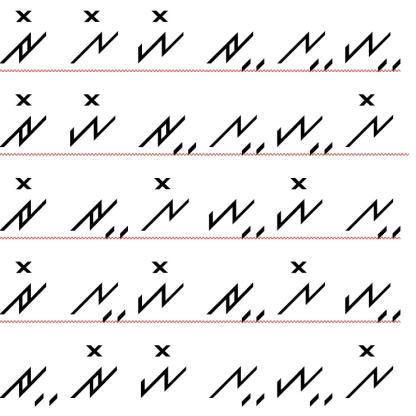lah: (341, 192, 404, 243), (68, 276, 130, 325), (206, 360, 266, 410), (276, 20, 334, 70), (207, 110, 267, 156)
lo: (65, 5, 123, 66), (342, 90, 398, 152), (344, 340, 398, 404), (274, 258, 328, 318), (142, 175, 191, 235)
rah: (205, 22, 268, 73), (136, 108, 199, 158), (65, 192, 130, 239), (206, 277, 267, 322), (1, 362, 60, 408)
ro: (1, 3, 52, 70), (68, 340, 121, 404), (0, 90, 50, 152), (1, 259, 52, 317), (1, 177, 50, 233)
yah: (340, 275, 404, 326), (273, 108, 337, 158), (342, 22, 405, 72), (203, 190, 267, 239), (276, 362, 336, 408)
yo: (134, 5, 188, 67), (272, 174, 328, 231), (66, 91, 121, 149), (132, 256, 186, 315), (136, 340, 188, 400)
